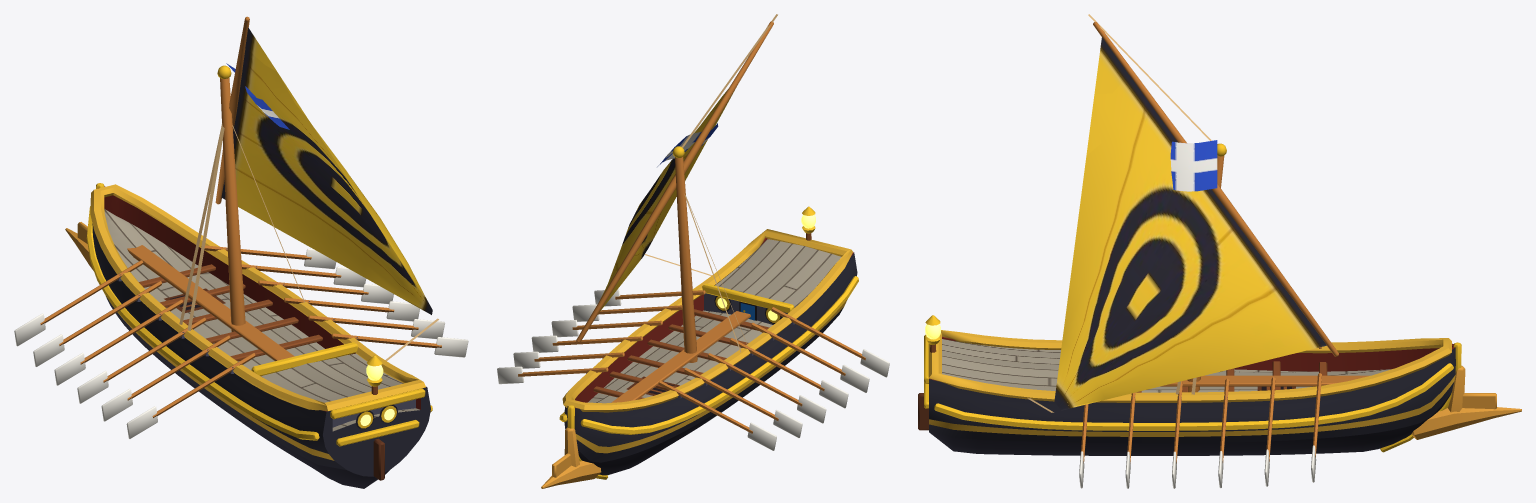
Rendered from enemy_galley.glb.
3 renders of one model, left to right at view 1: azimuth 30°, elevation 25°; view 2: azimuth 150°, elevation 25°; view 3: azimuth 270°, elevation 25°, orthographic. The views are drawn at different scales.
Visible parts, largest first — view 1: Hull, Sail0_0, OarsL, OarsR, Rigging; view 2: Hull, OarsL, Rigging, OarsR, Sail0_0; view 3: Hull, Sail0_0, Rigging, OarsR, Flag.
Boxes of the visible parts, bbox=[...] form: Hull: bbox=[65, 183, 432, 488]; Sail0_0: bbox=[221, 27, 432, 314]; OarsL: bbox=[14, 260, 255, 438]; OarsR: bbox=[201, 245, 468, 357]; Rigging: bbox=[179, 16, 438, 360]; Hull: bbox=[541, 206, 858, 488]; OarsL: bbox=[658, 307, 889, 450]; Rigging: bbox=[576, 14, 777, 362]; OarsR: bbox=[497, 289, 705, 384]; Sail0_0: bbox=[598, 87, 736, 313]; Hull: bbox=[918, 315, 1521, 455]; Sail0_0: bbox=[1054, 37, 1326, 410]; Rigging: bbox=[1027, 14, 1338, 412]; OarsR: bbox=[1079, 373, 1321, 488]; Flag: bbox=[1170, 140, 1217, 191].
Bounding box in the file's own units: 1.65 × 2.01 × 2.64.
8 materials, 4 textured.
